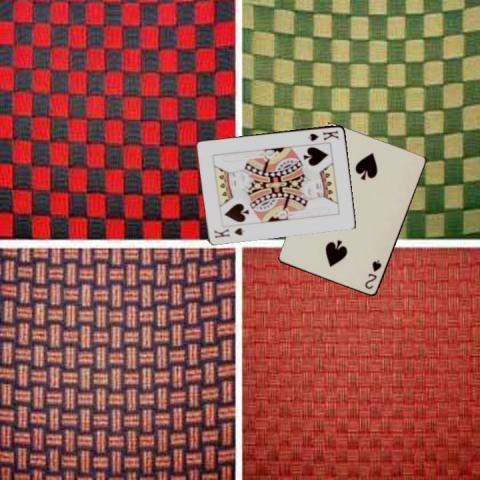2s: (362, 256, 383, 290)
Ks: (305, 127, 340, 142), (211, 225, 246, 239)
